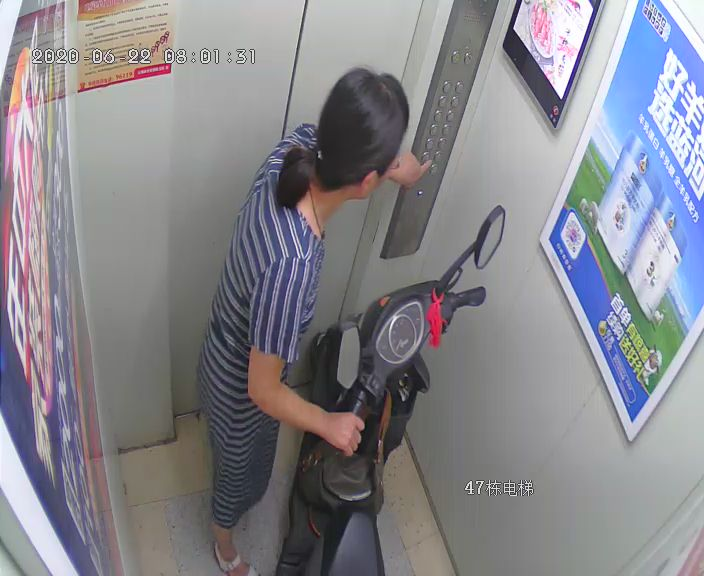Electric-bicycle: (277, 207, 504, 576)
